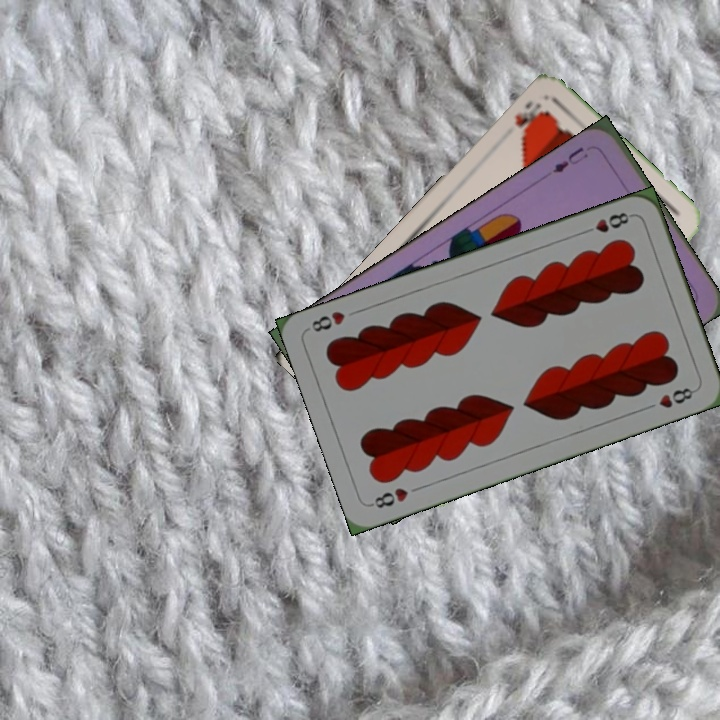EU: (548, 142, 591, 176)
H8: (578, 208, 636, 237), (367, 483, 411, 511)
HO: (511, 96, 550, 136)
